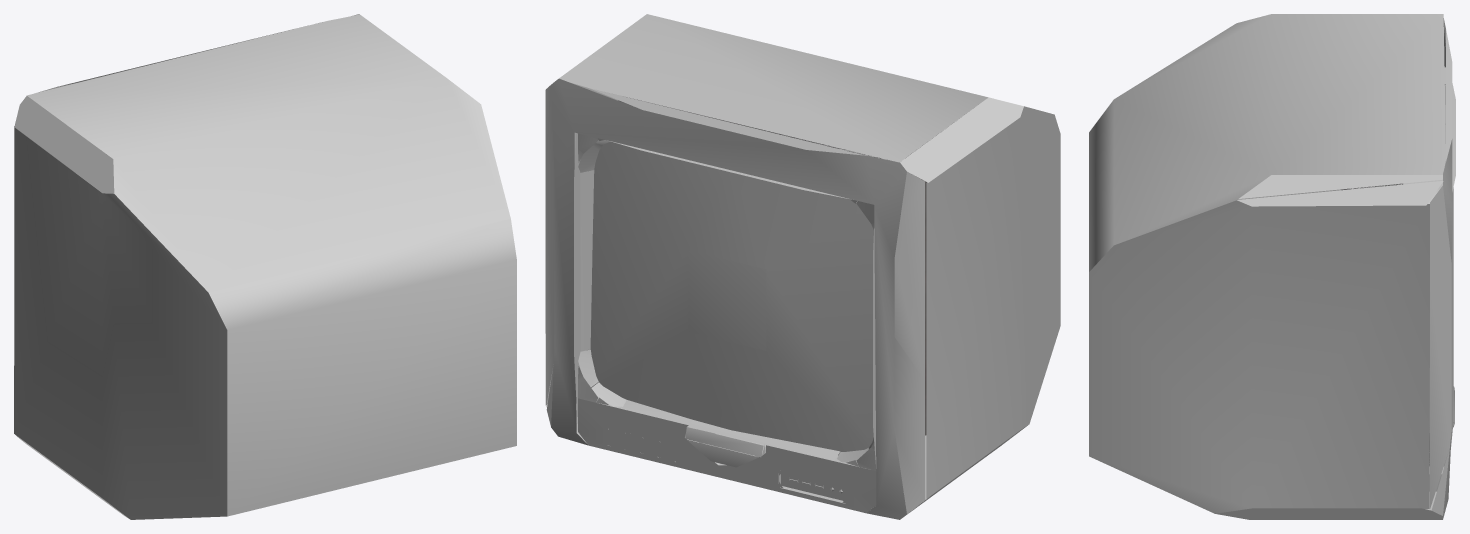
The model's file is tv_screen.obj.
3 views of the same model, side by side, from view 1: azimuth 30°, elevation 25°; view 2: azimuth 150°, elevation 25°; view 3: azimuth 270°, elevation 25° (orthographic). The views are drawn at different scales.
Visible parts, largest first — view 1: muebles.005; view 2: muebles.005, muebles.001; view 3: muebles.005.
Boxes of the visible parts, bbox=[...] form: muebles.005: bbox=[14, 14, 516, 519]; muebles.005: bbox=[545, 14, 1060, 519]; muebles.001: bbox=[587, 138, 873, 455]; muebles.005: bbox=[1089, 14, 1455, 519].
Bounding box in the file's own units: 4.5 × 4.01 × 3.85.
